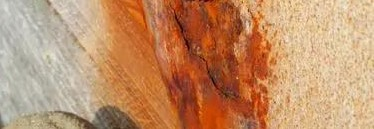Corrosion: (91, 1, 278, 129)
Crack: (168, 1, 237, 102)
